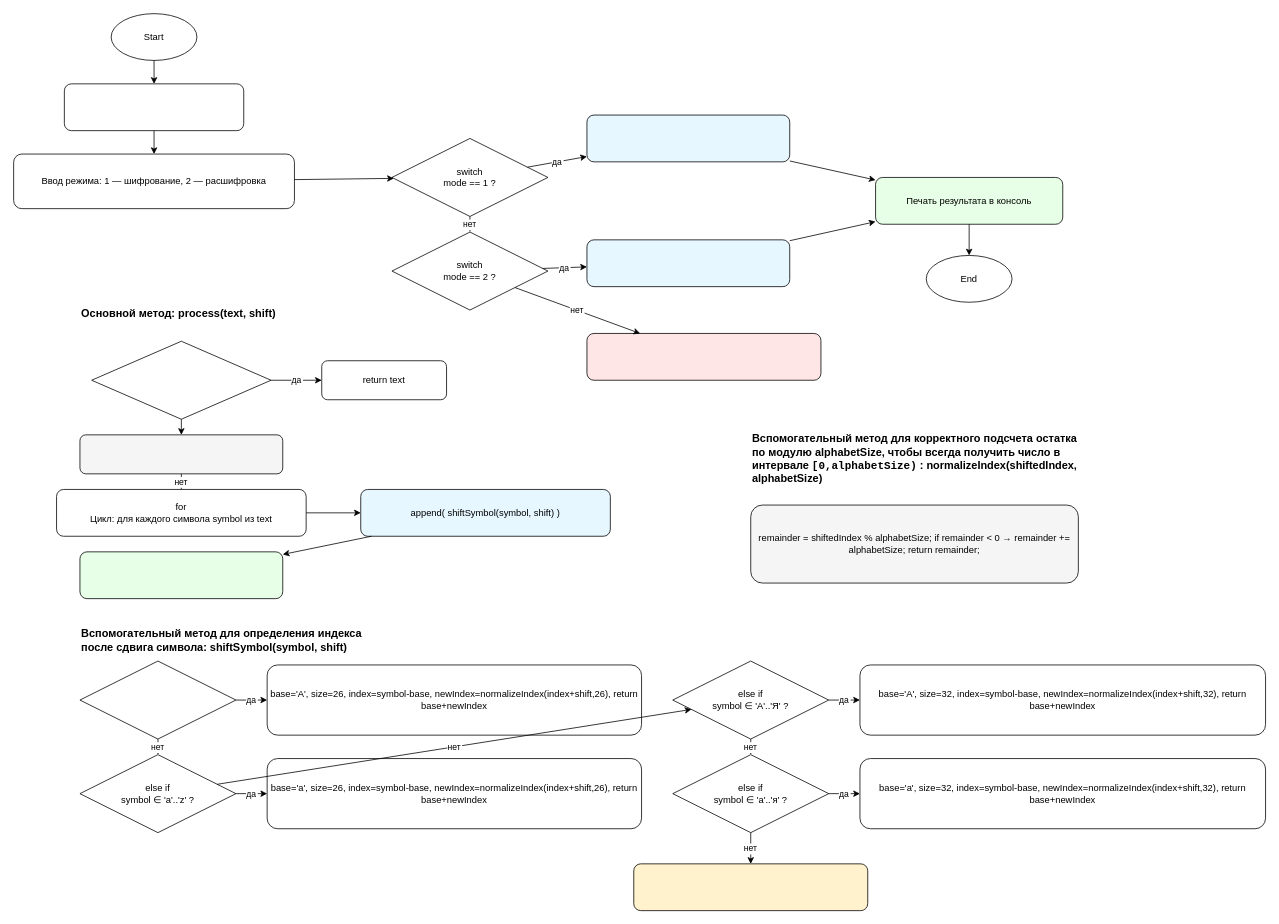
Some shapes in this 1279 by 924 pixel diagram are drawn without their labels. The centre of each missing label's shape, as x and y in pixels:
else return symbol без изменений: (x=750, y=887)
if symbol ∈ 'A'..'Z' ?: (x=157, y=699)
if text == null или text пуст?: (x=181, y=379)
result = new StringBuilder: (x=181, y=454)
result = process(text, +SHIFT): (x=688, y=138)
result = process(text, -SHIFT): (x=688, y=263)
return result.toString(): (x=181, y=575)
Ввод текста: text: (x=154, y=107)
Печать: "Неправильно выбран режим!!!": (x=703, y=356)
